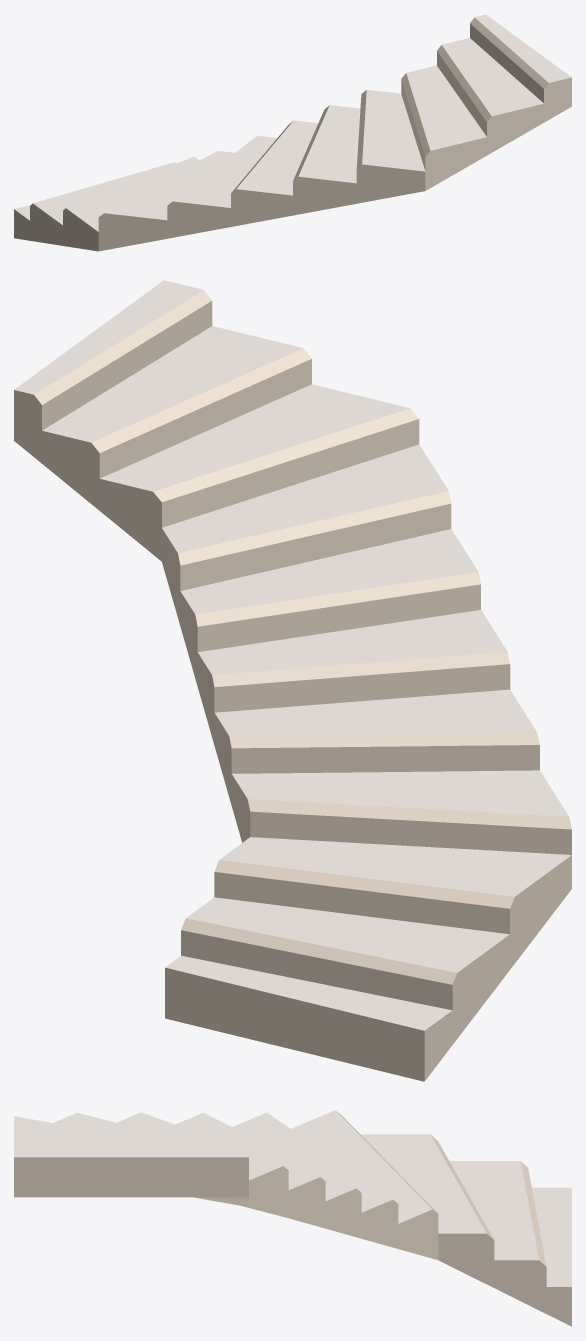
File: temple_Stairs_Steps_Curved.glb
3 renders of one model, top to bottom at view 1: azimuth 30°, elevation 25°; view 2: azimuth 150°, elevation 25°; view 3: azimuth 270°, elevation 25°, orthographic. The views are drawn at different scales.
Parts seen in each view (by area): view 1: object1; view 2: object1; view 3: object1.
Part boxes in pixels (x1,y1,x2,y2): object1: (14,14,571,251); object1: (14,280,571,1081); object1: (14,1110,571,1326).
Bounding box in the file's own units: 1.9 × 1.15 × 1.9.
